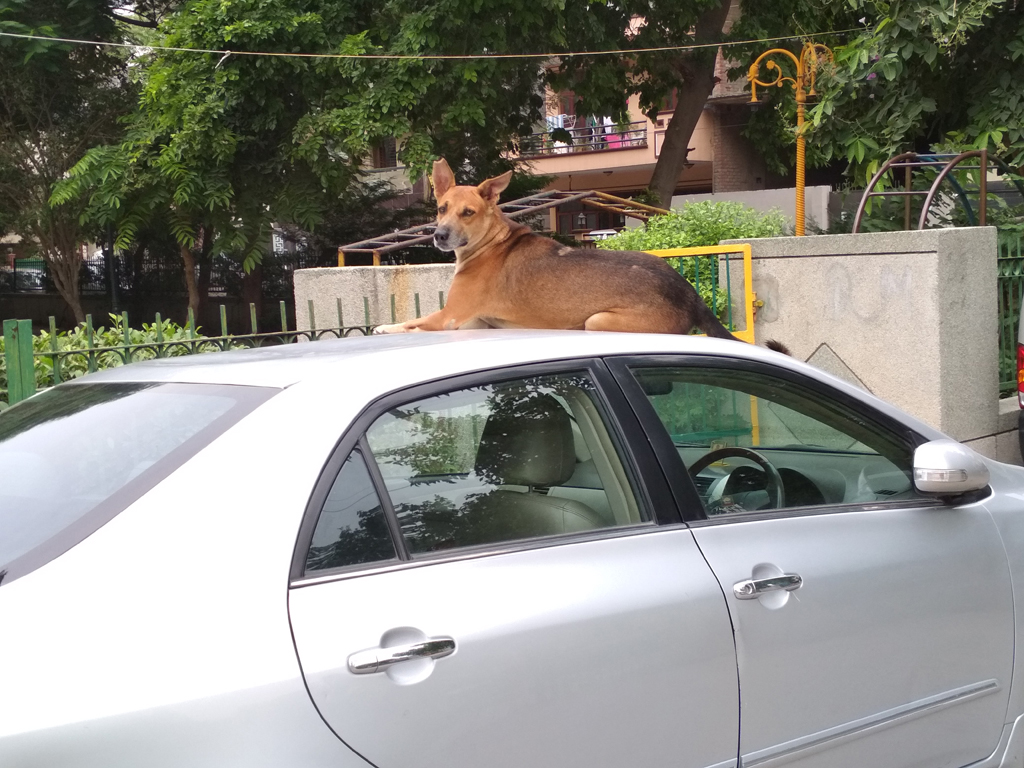dog: (373, 159, 791, 394)
